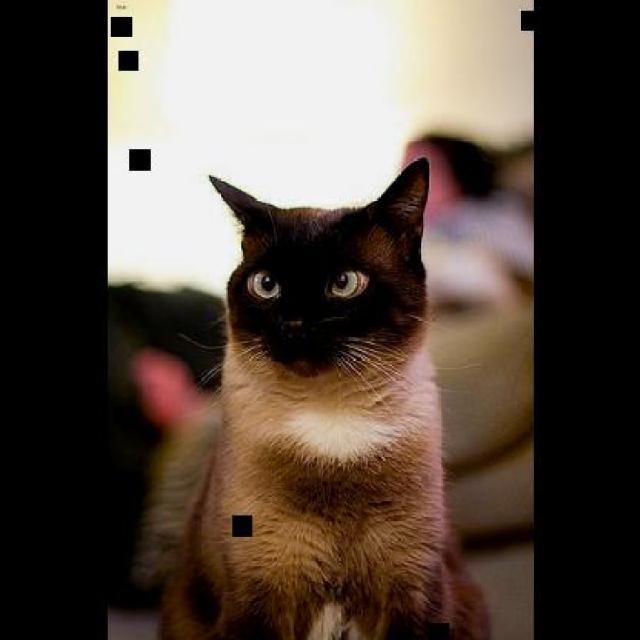unauthorized: (129, 156, 491, 638)
